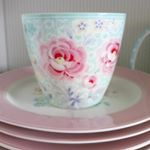cups: (18, 9, 133, 124)
